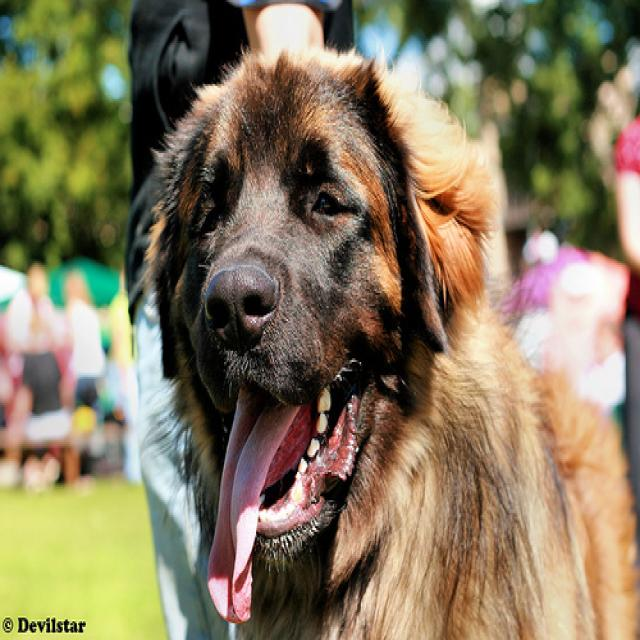dog-leonberger: (142, 41, 637, 636)
